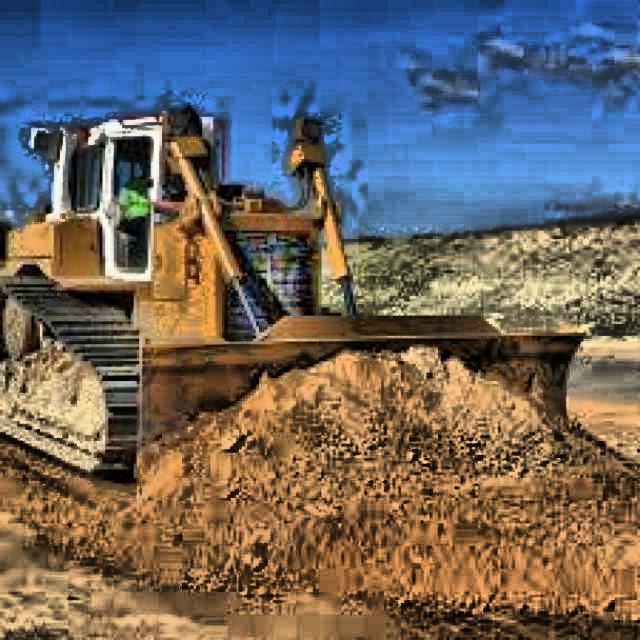bull_dozer/loader/grader: (0, 95, 586, 500)
person: (121, 156, 151, 222)
